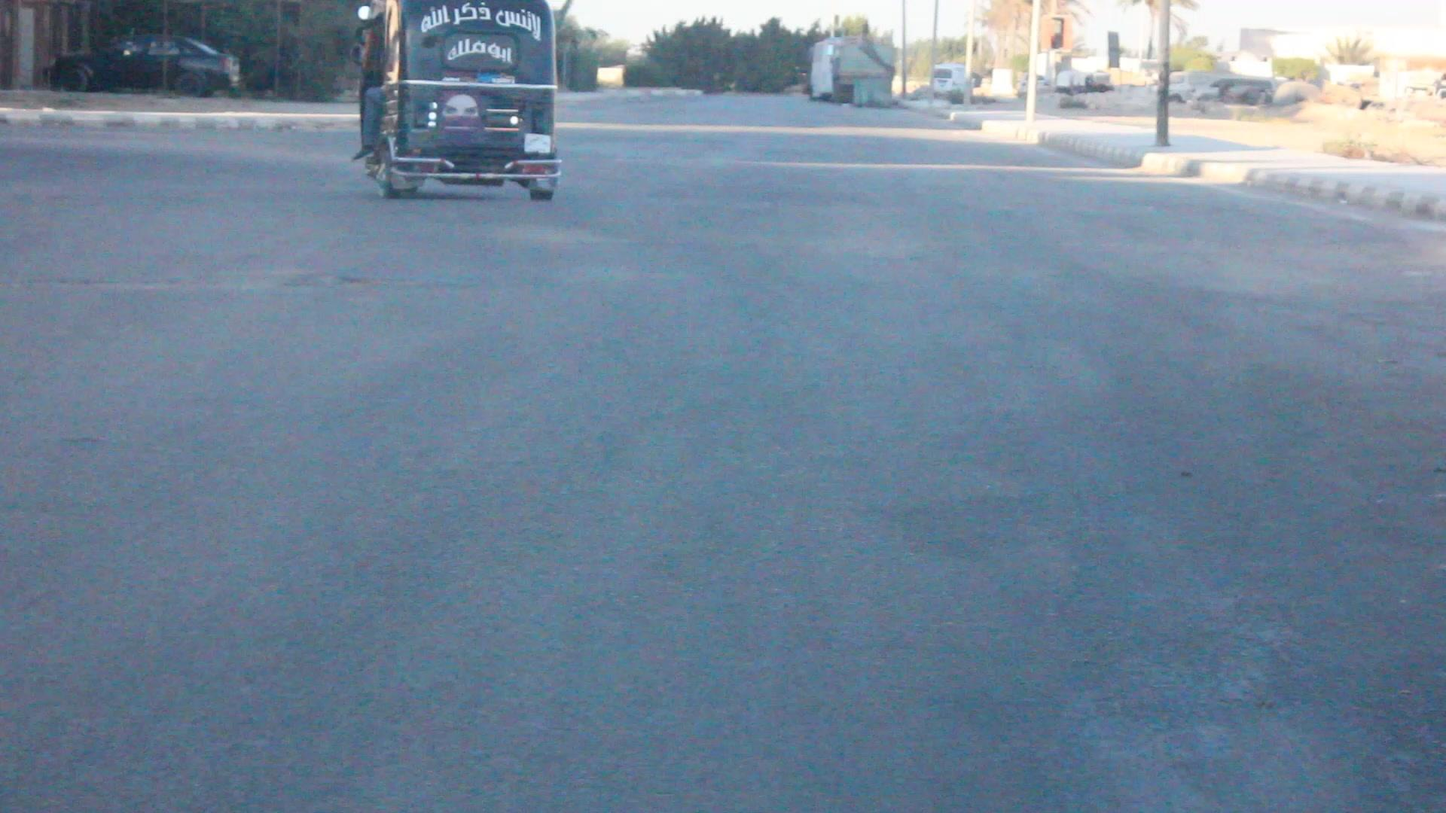Bump: (24, 181, 1442, 271)
